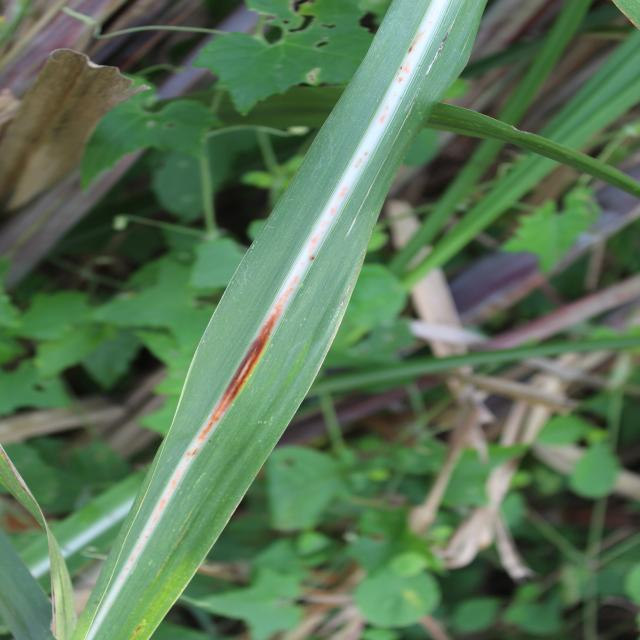Sugarcane: (0, 0, 365, 624), (280, 0, 409, 630), (351, 119, 640, 292), (120, 0, 284, 216), (343, 3, 541, 111), (495, 92, 638, 230), (4, 0, 129, 138), (374, 137, 468, 277), (169, 0, 236, 135), (121, 0, 209, 85), (209, 9, 263, 143), (516, 150, 636, 198), (375, 11, 423, 129), (121, 108, 172, 211), (246, 8, 294, 116), (578, 159, 640, 235), (231, 240, 297, 286), (513, 50, 636, 72), (618, 342, 640, 440), (510, 82, 628, 100)
